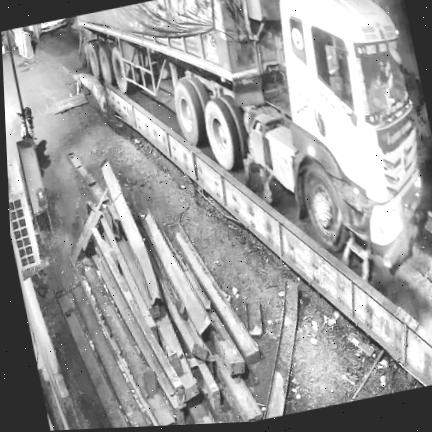tyre: (303, 162, 348, 253), (205, 99, 242, 170), (174, 79, 206, 146), (221, 95, 248, 158), (189, 77, 210, 114), (112, 47, 128, 93), (99, 41, 115, 85), (85, 42, 102, 80)
